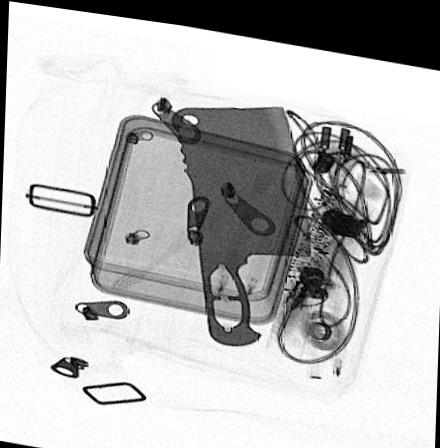Knife: (166, 95, 312, 339)
